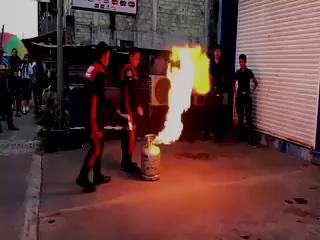Fire: (152, 41, 212, 147)
